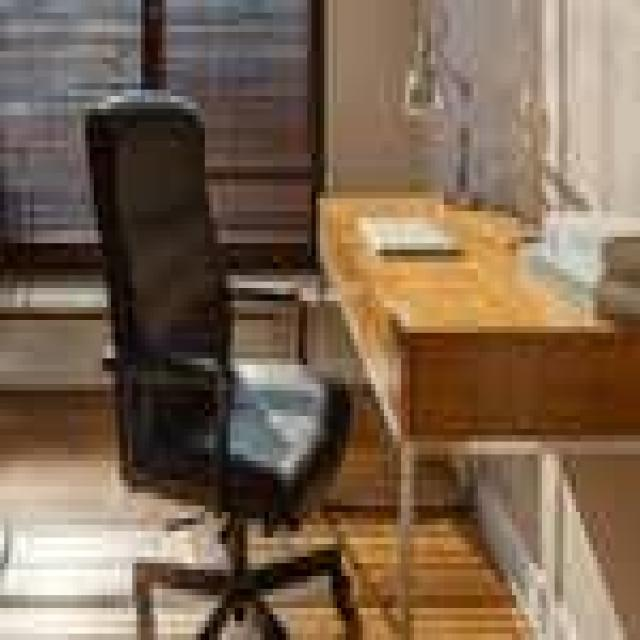chair: (64, 57, 379, 640)
